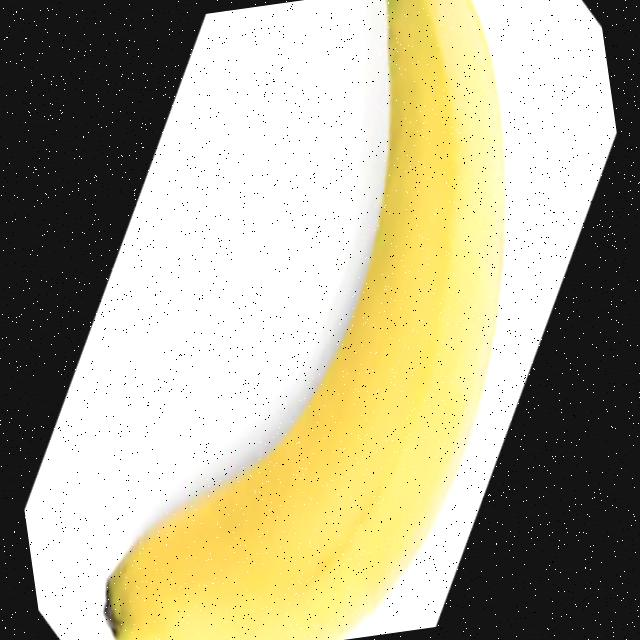Ripe: (18, 0, 575, 640)
